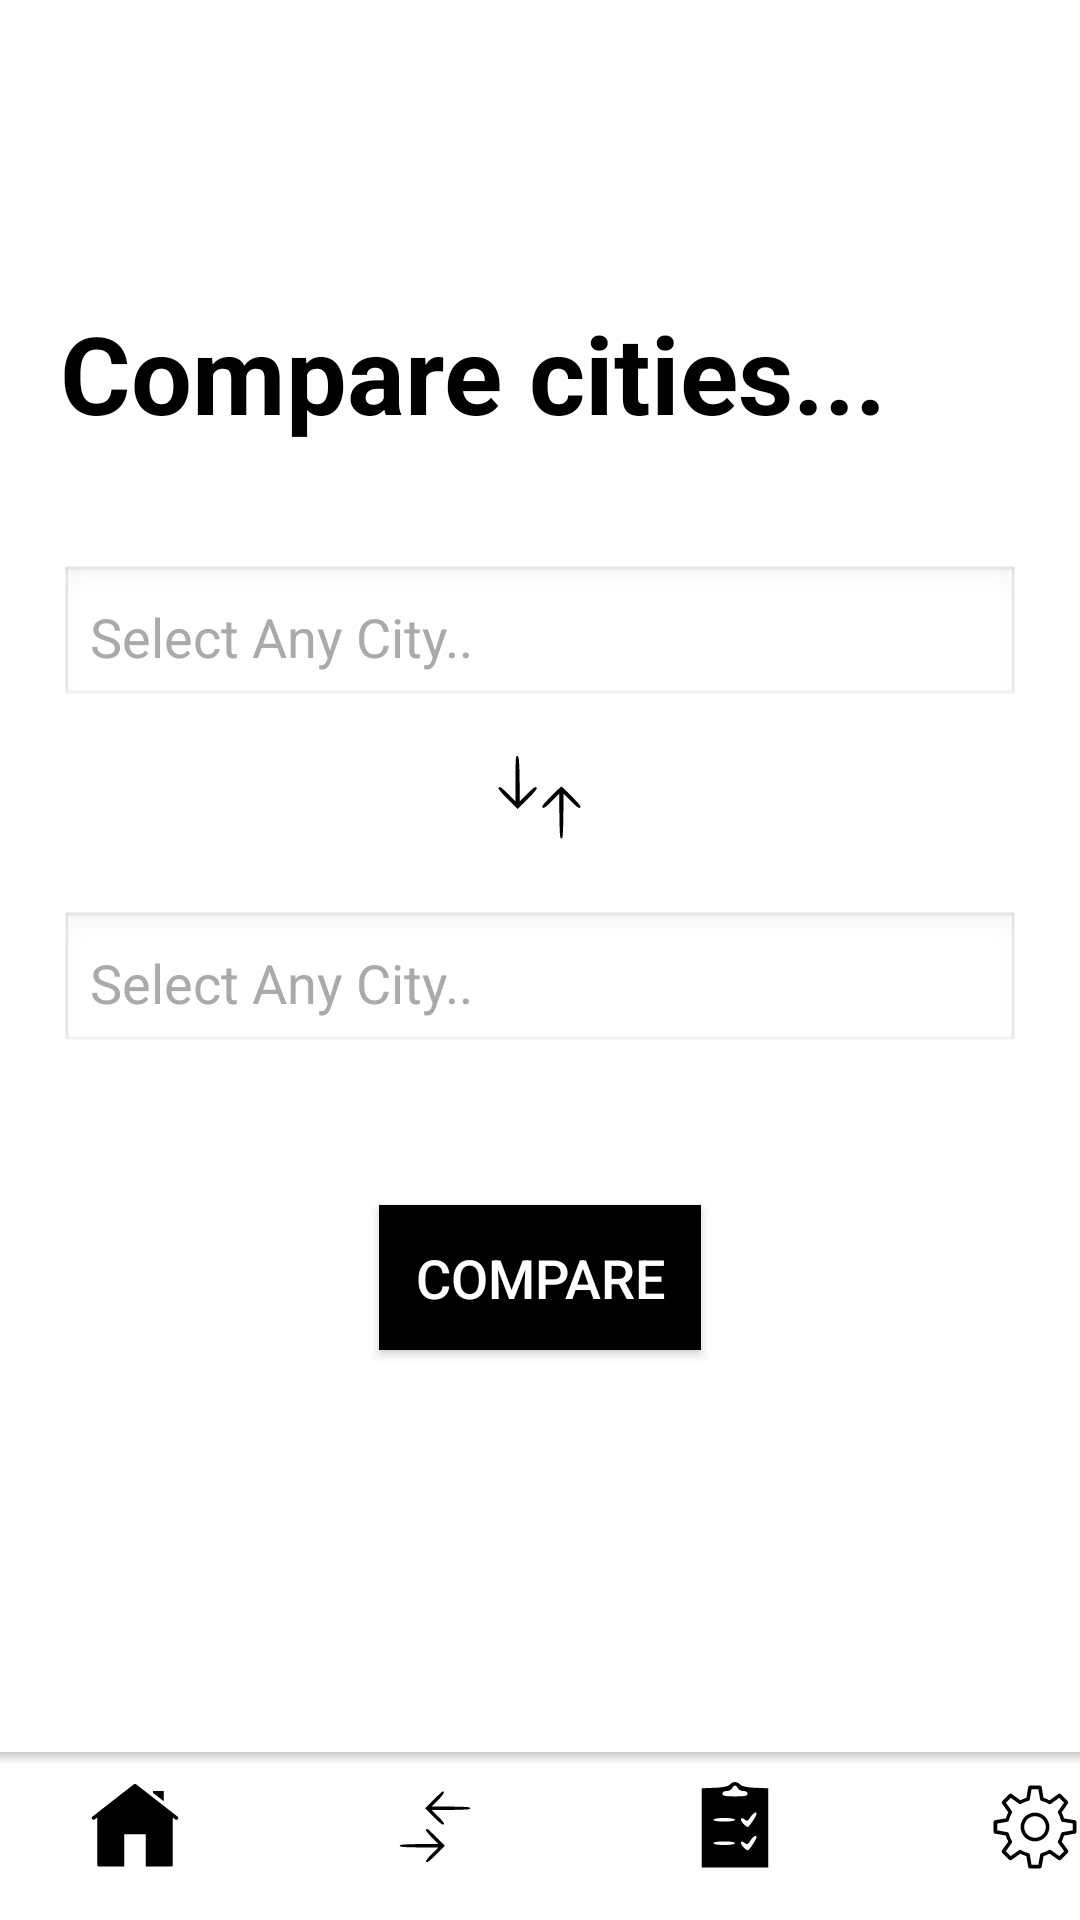

Icons on this 1080px×1920px Android screen, each with the point to tap as point (x, y):
compare xxxhdpi: point (435, 1826)
home: point (135, 1825)
quiz: point (735, 1825)
setting: point (1035, 1827)
vertical arrow: point (539, 797)
